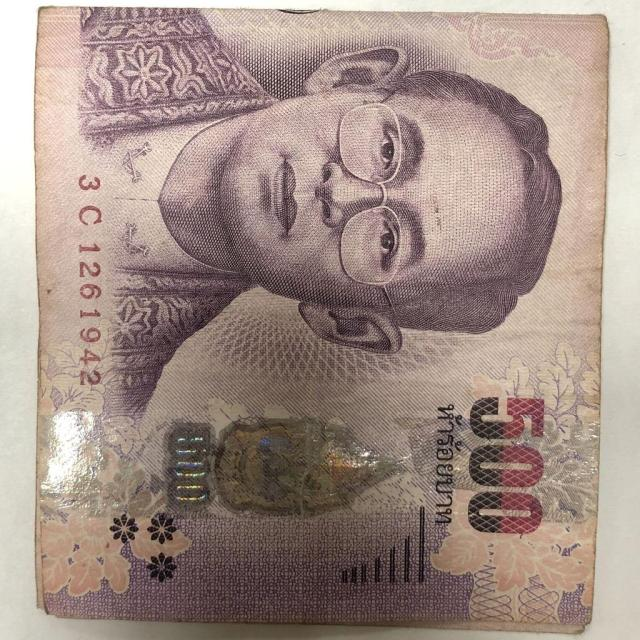THAI500: (34, 6, 612, 635)
